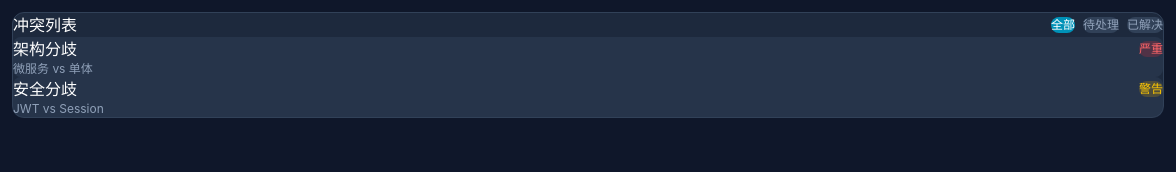
ConflictList › 应该支持筛选状态
Click the button "待处理" at [1101, 25], box [1083,17,1119,33]
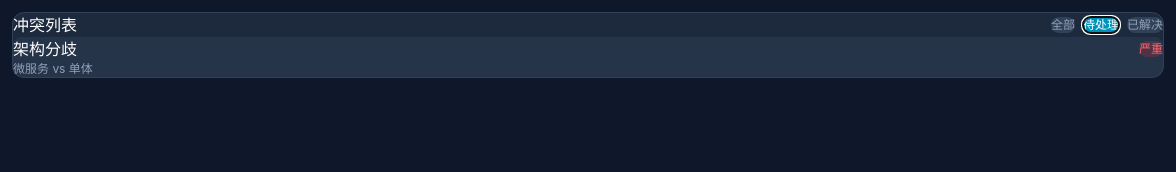
expect the text "架构分歧" is shown: met, box [13,37,77,61]
expect the text "安全分歧" is gone: met
